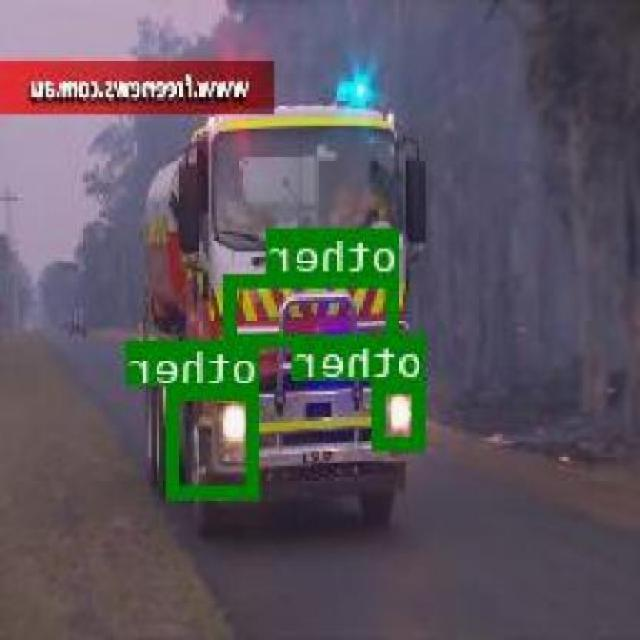other: (227, 273, 401, 344), (170, 382, 261, 496), (374, 379, 426, 448)
